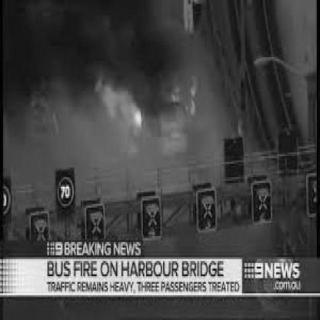Fire: (73, 58, 221, 142)
